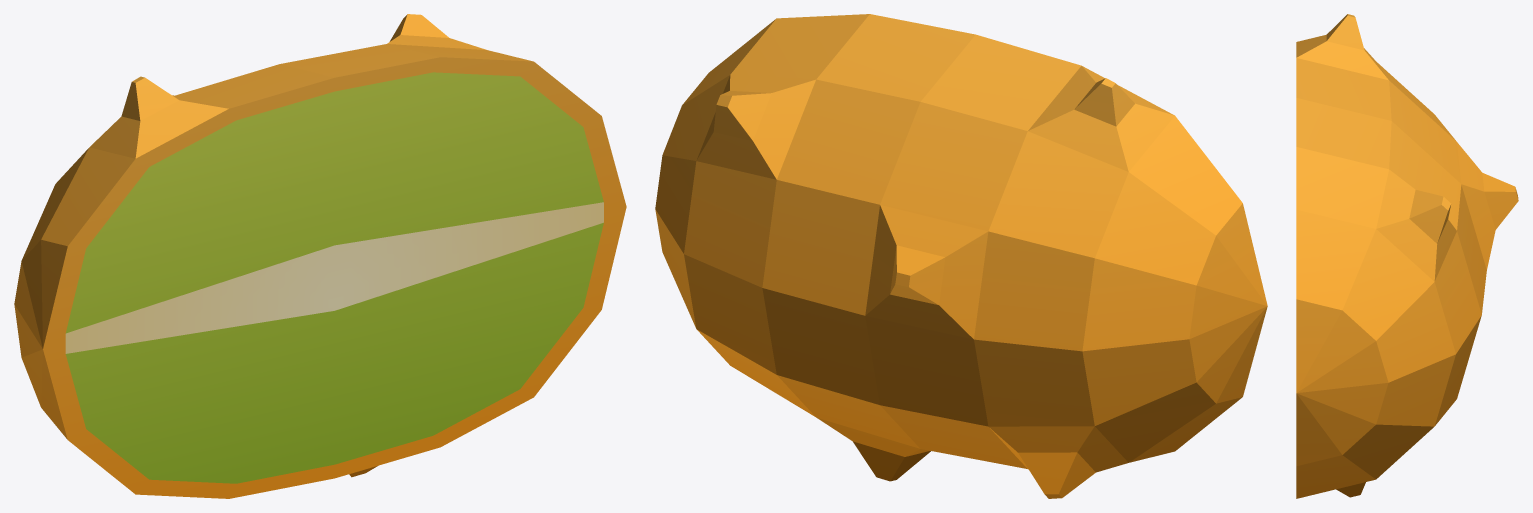
Rendered from Kiwano Half.fbx.
The picture shows the model from 3 angles, left to right: view 1: azimuth 30°, elevation 25°; view 2: azimuth 150°, elevation 25°; view 3: azimuth 270°, elevation 25°; orthographic projection. The views are drawn at different scales.
Parts seen in each view (by area): view 1: Kiwano Half; view 2: Kiwano Half; view 3: Kiwano Half.
Boxes of the visible parts, bbox=[...] form: Kiwano Half: bbox=[14, 14, 626, 498]; Kiwano Half: bbox=[655, 14, 1267, 498]; Kiwano Half: bbox=[1296, 14, 1518, 498].
Bounding box in the file's own units: 25.61 × 18.94 × 9.8.
